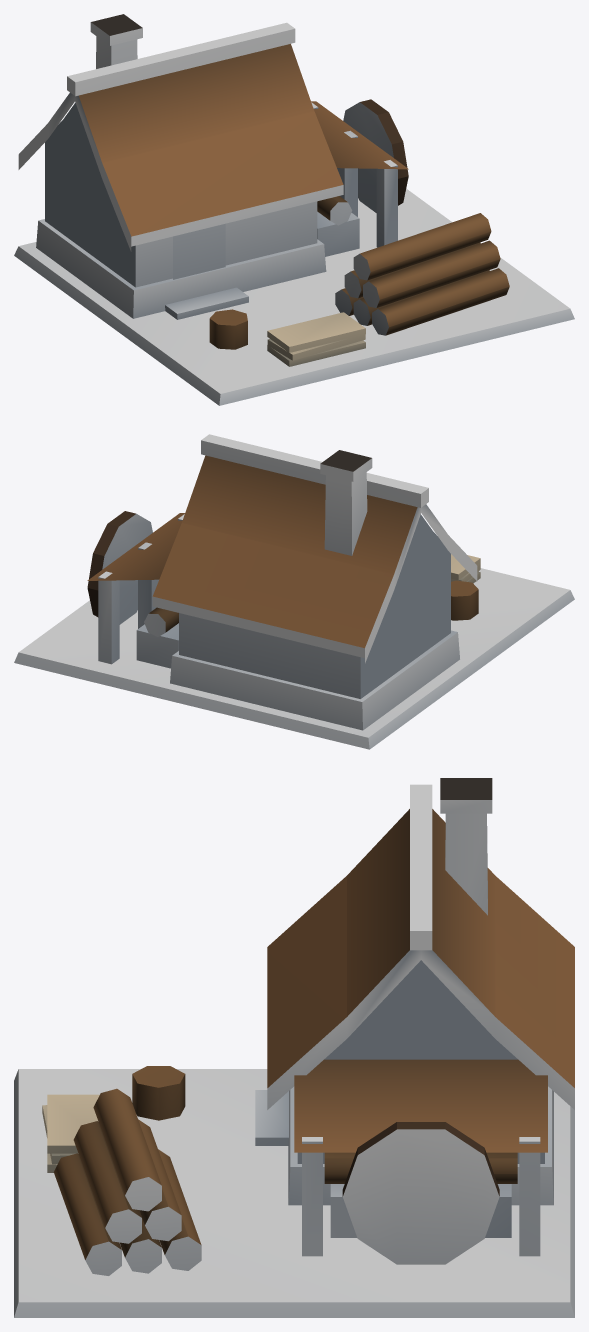
The model's file is lumber_mill_t3.glb.
The picture shows the model from 3 angles, top to bottom: view 1: azimuth 30°, elevation 25°; view 2: azimuth 150°, elevation 25°; view 3: azimuth 270°, elevation 25°; orthographic projection. The views are drawn at different scales.
Parts seen in each view (by area): view 1: lumber_mill_t3; view 2: lumber_mill_t3; view 3: lumber_mill_t3.
Boxes of the visible parts, x1,y1,x2,y2 form: lumber_mill_t3: (14, 14, 574, 405); lumber_mill_t3: (14, 434, 574, 749); lumber_mill_t3: (14, 778, 574, 1317).
Size of the model in its own units: 1.86 by 1.22 by 1.86.
